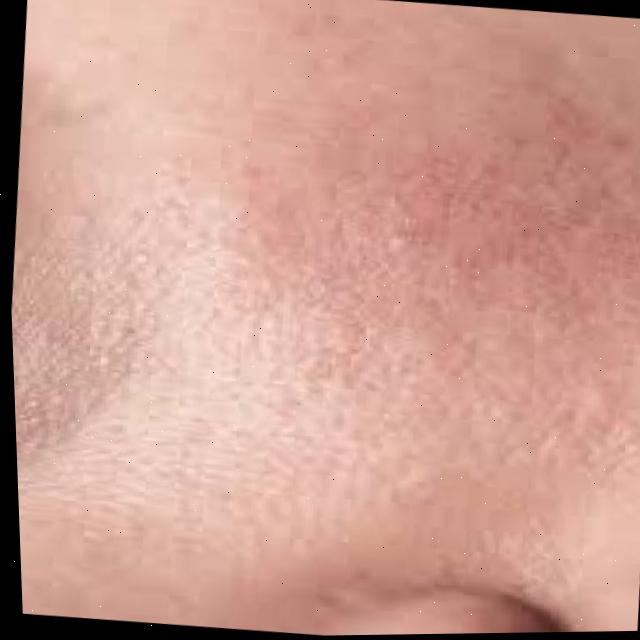Rosacea: (228, 39, 599, 308)
